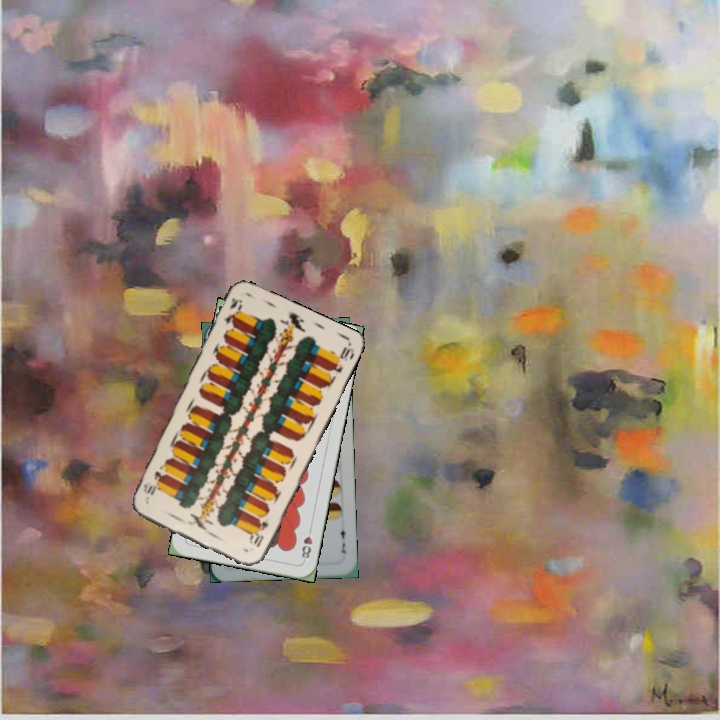E10: (219, 294, 245, 333), (246, 517, 271, 550)
E7: (336, 521, 348, 556)
H8: (297, 524, 315, 564)
